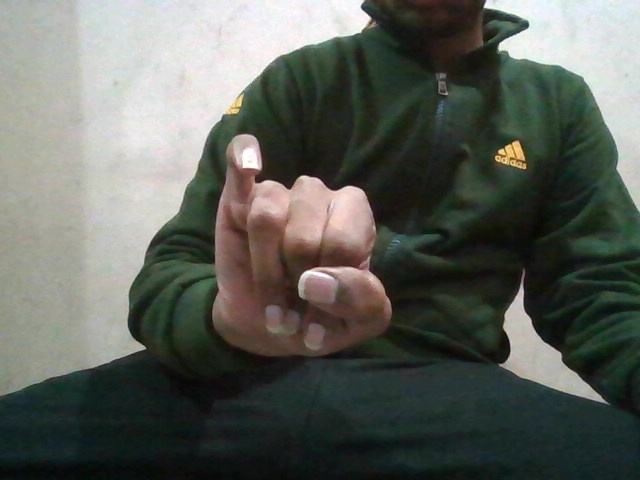J: (210, 128, 400, 344)
